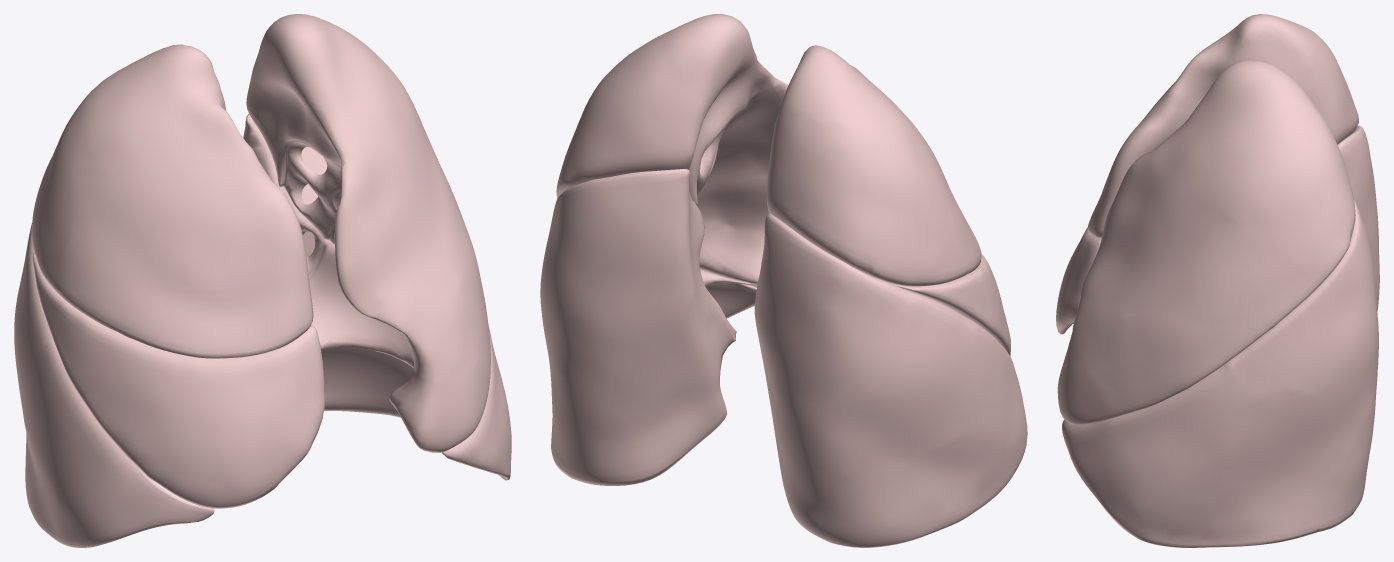
The model's file is polmoni-test.glb.
3 renders of one model, left to right at view 1: azimuth 30°, elevation 25°; view 2: azimuth 150°, elevation 25°; view 3: azimuth 270°, elevation 25°, orthographic. The views are drawn at different scales.
Visible parts, largest first — view 1: Superior lobe of right lung, Superior lobe of left lung, Middle lobe of right lung, Inferior lobe of right lung, Inferior lobe of left lung; view 2: Inferior lobe of right lung, Inferior lobe of left lung, Superior lobe of left lung, Superior lobe of right lung, Middle lobe of right lung; view 3: Superior lobe of left lung, Inferior lobe of left lung, Superior lobe of right lung, Inferior lobe of right lung, Middle lobe of right lung.
Boxes of the visible parts, x1,y1,x2,y2 form: Superior lobe of right lung: (32,44,313,358); Superior lobe of left lung: (246,14,490,452); Middle lobe of right lung: (32,252,324,508); Inferior lobe of right lung: (14,223,214,547); Inferior lobe of left lung: (243,114,511,480); Inferior lobe of right lung: (754,214,1027,547); Inferior lobe of left lung: (540,169,756,485); Superior lobe of left lung: (556,14,788,287); Superior lobe of right lung: (766,45,981,286); Middle lobe of right lung: (889,254,1010,355); Superior lobe of left lung: (1057,59,1355,424); Inferior lobe of left lung: (1062,199,1378,547); Superior lobe of right lung: (1088,14,1358,237); Inferior lobe of right lung: (1073,125,1379,323); Middle lobe of right lung: (1056,227,1101,334).
Bounding box in the file's own units: 0.261 × 0.264 × 0.1857.
